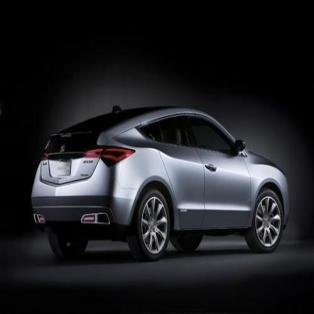Auto: (30, 106, 290, 263)
